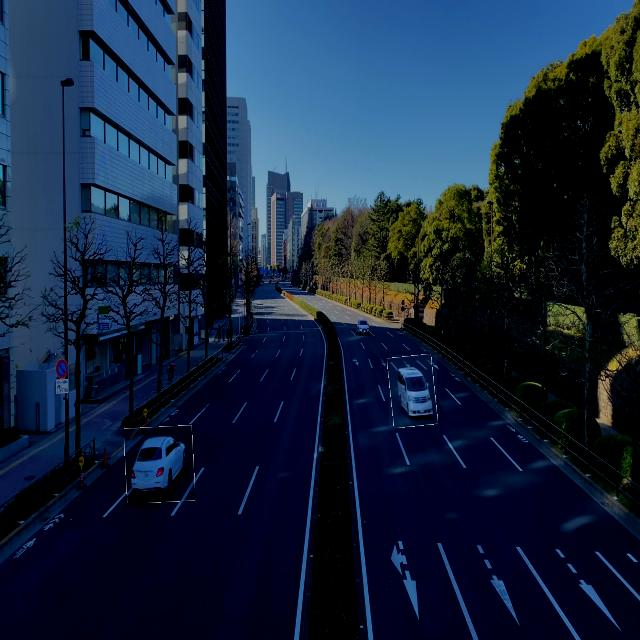Car: (125, 426, 195, 503), (389, 355, 437, 427)
